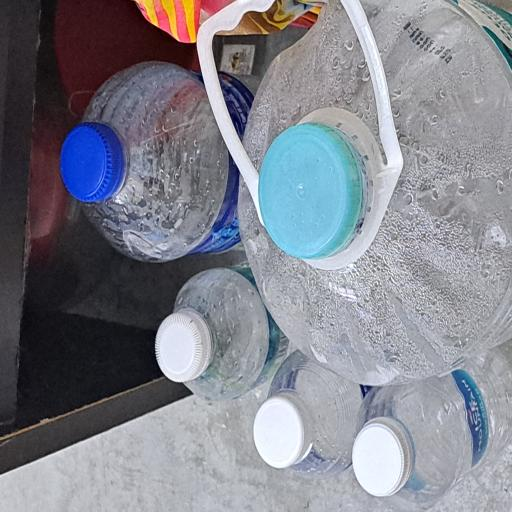plastic bottle: (95, 309, 384, 512), (183, 76, 342, 353), (70, 226, 194, 394), (22, 367, 140, 504)
plastic bottle cap: (181, 342, 299, 498), (233, 78, 293, 165), (31, 337, 93, 419), (94, 203, 152, 282), (12, 467, 73, 512)
